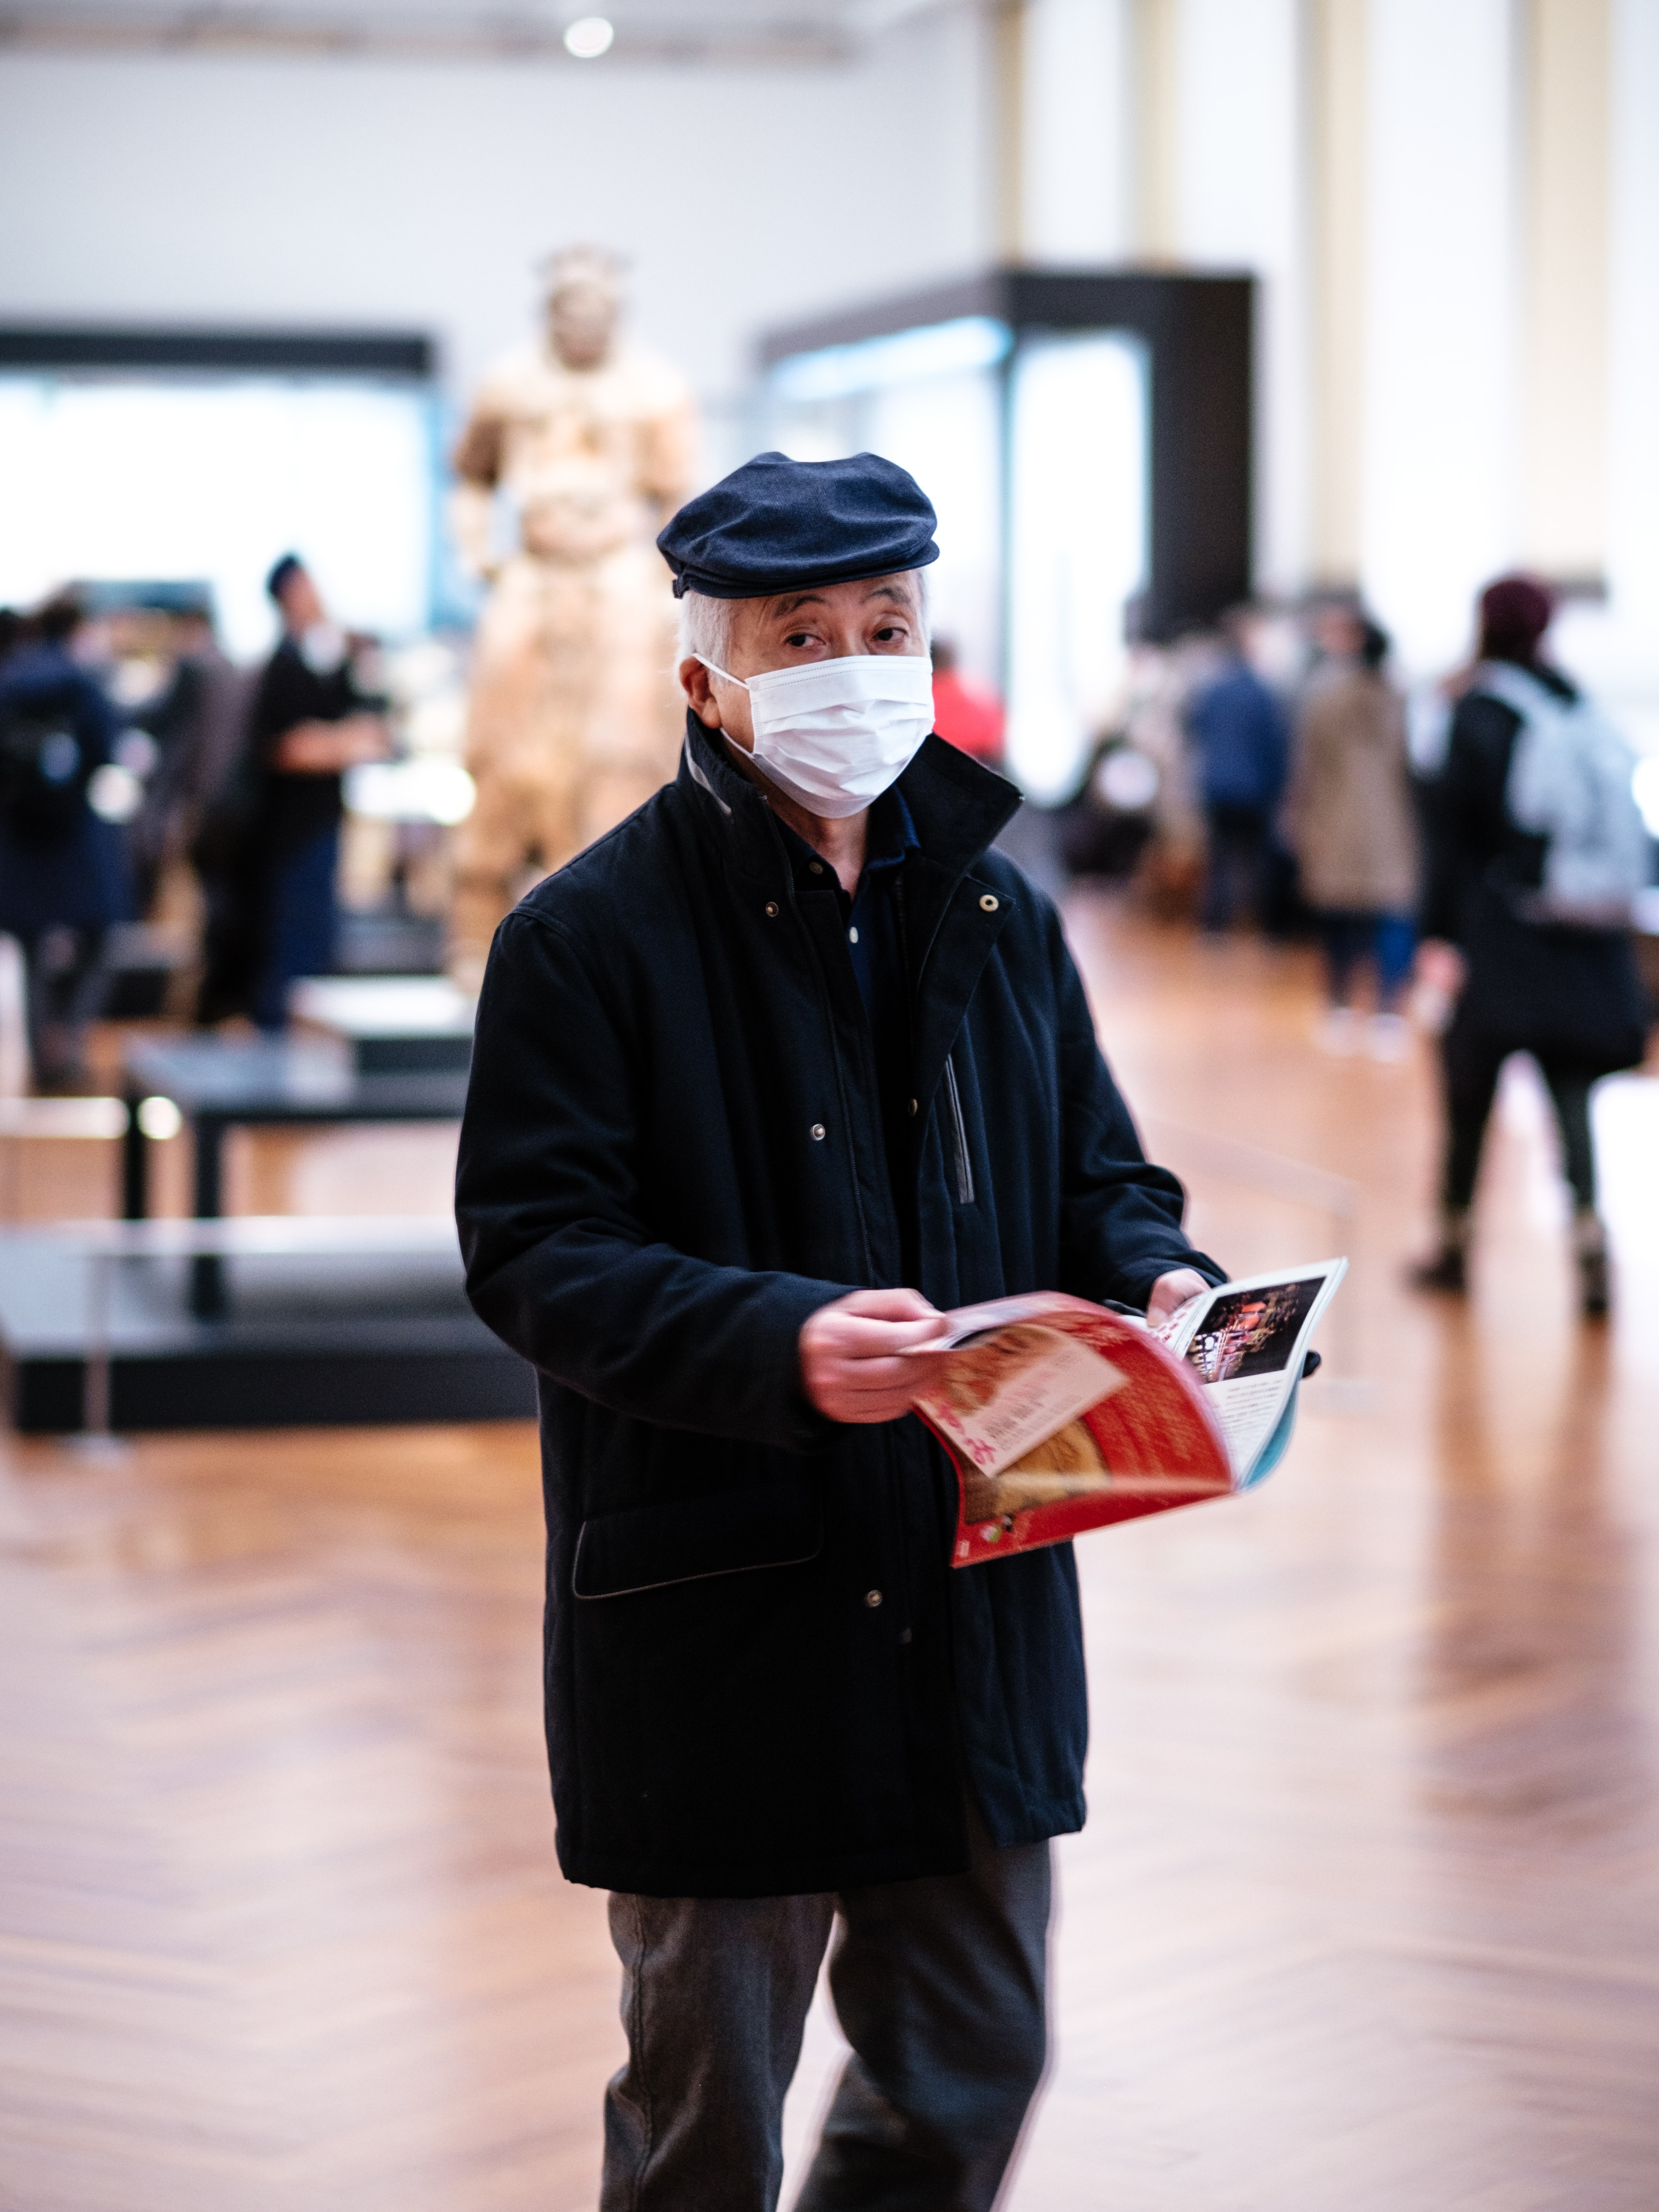mask: (712, 654, 957, 818)
person: (436, 397, 1198, 2212)
